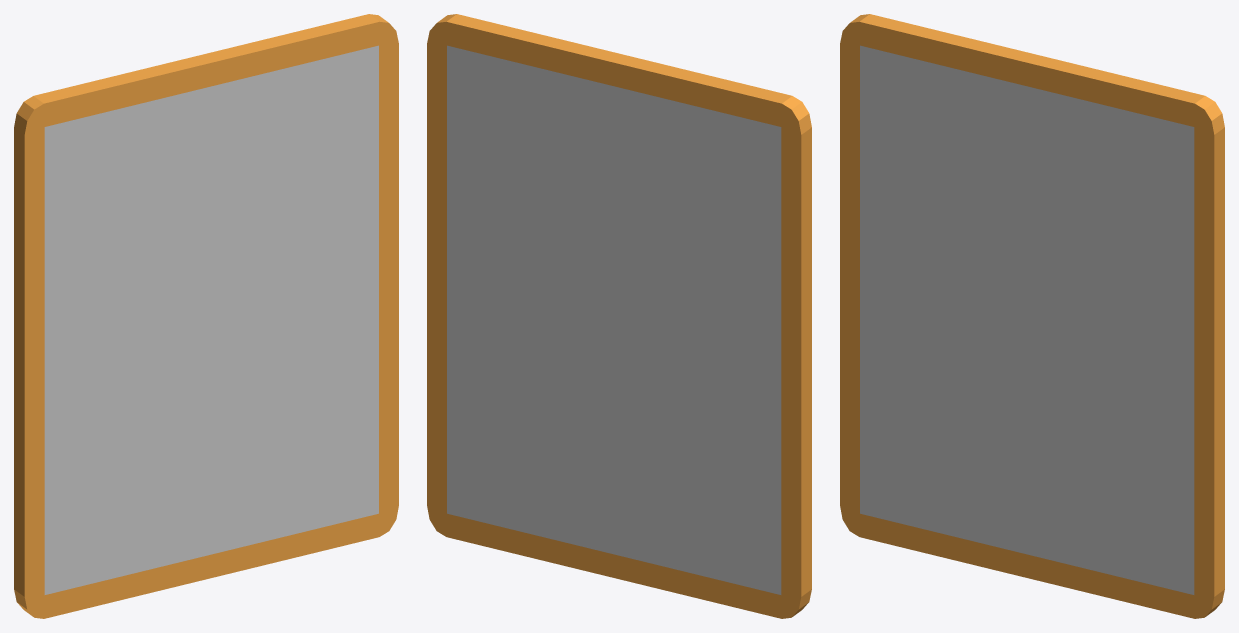
Rendered from card_model.glb.
3 views of the same model, side by side, from view 1: azimuth 30°, elevation 25°; view 2: azimuth 150°, elevation 25°; view 3: azimuth 330°, elevation 25° (orthographic).
Parts seen in each view (by area): view 1: Cube; view 2: Cube; view 3: Cube.
Part boxes in pixels (<box>): Cube: <box>14,14,398,618</box>; Cube: <box>427,14,811,618</box>; Cube: <box>840,14,1224,618</box>.
Size of the model in its own units: 0.0963 by 0.1266 by 0.00475.
